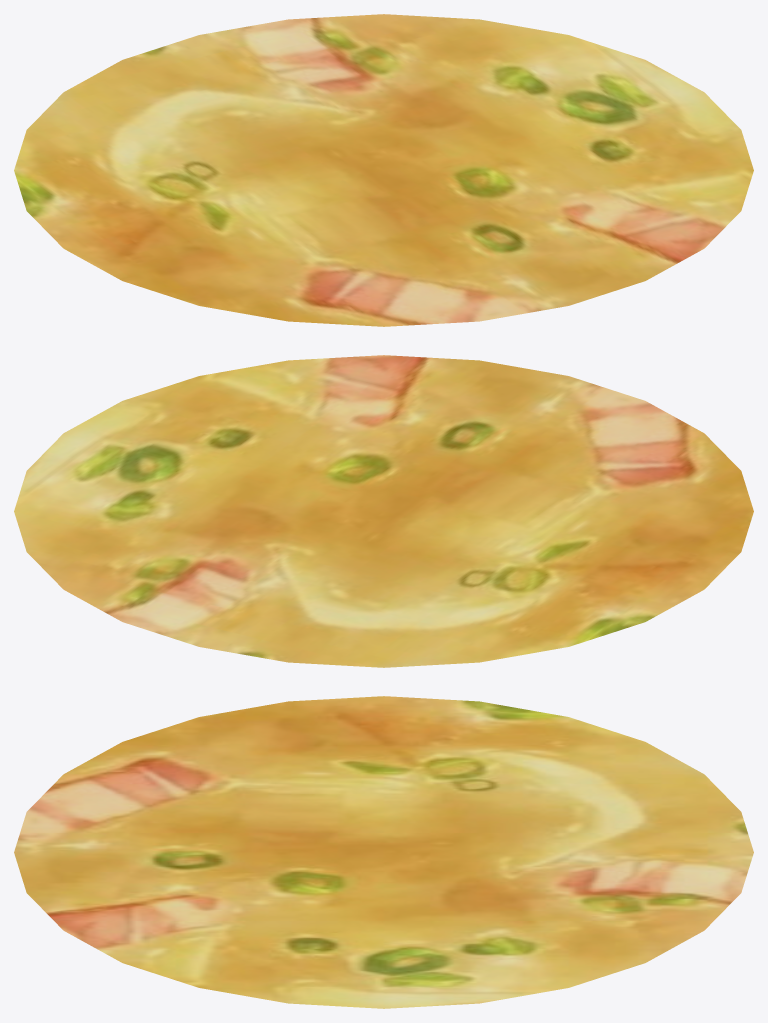
The model's file is Caldo.obj.
The picture shows the model from 3 angles, top to bottom: view 1: azimuth 30°, elevation 25°; view 2: azimuth 150°, elevation 25°; view 3: azimuth 270°, elevation 25°; orthographic projection.
Visible parts, largest first — view 1: pDisc1; view 2: pDisc1; view 3: pDisc1.
Boxes of the visible parts, box(x1,y1,x2,y2) form: pDisc1: box(14, 14, 753, 326); pDisc1: box(14, 355, 753, 667); pDisc1: box(14, 696, 753, 1008).
Bounding box in the file's own units: 3.75 × 0 × 3.75.
Materials: 1 (1 with a texture image).
